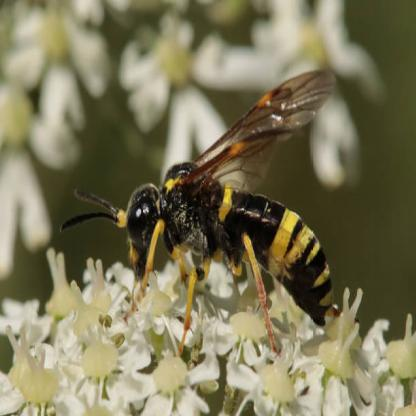sawfly: (55, 65, 354, 351)
